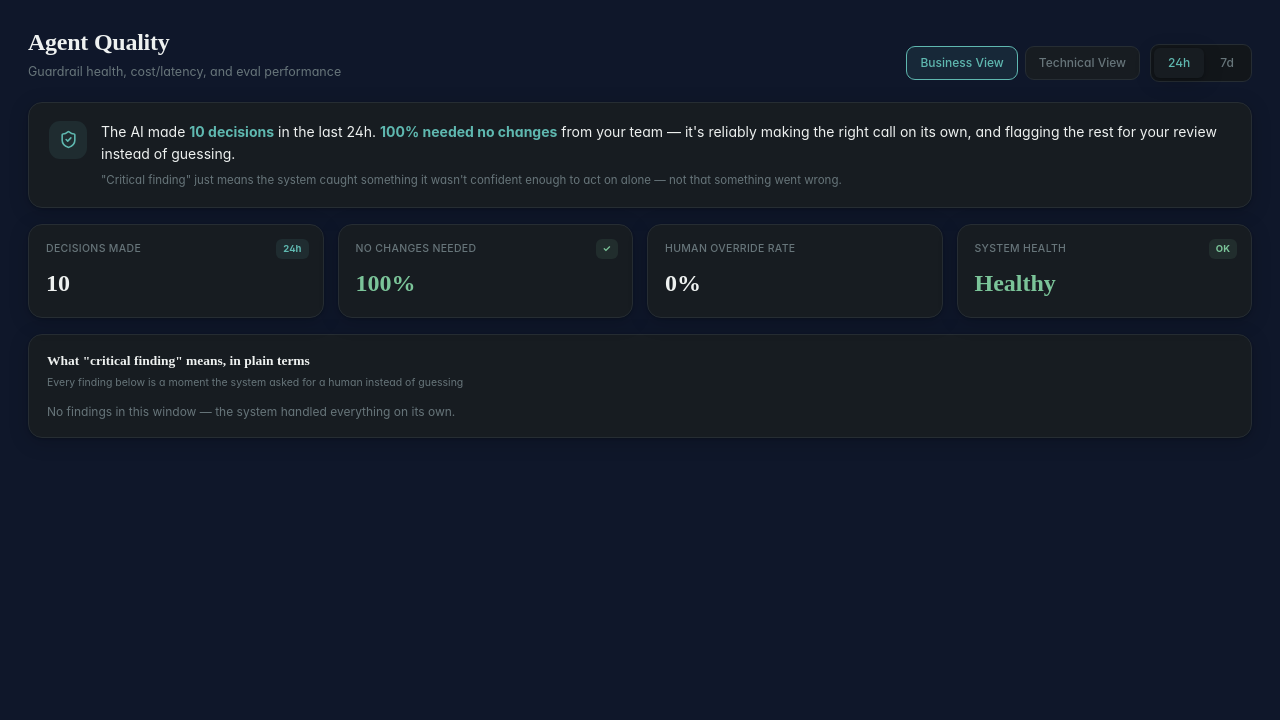
Test: AgentQuality › shows the healthy-zero empty state when runs exist but no findings
Click the button "Technical View".
click(1082, 63)  # box [1025, 46, 1140, 80]
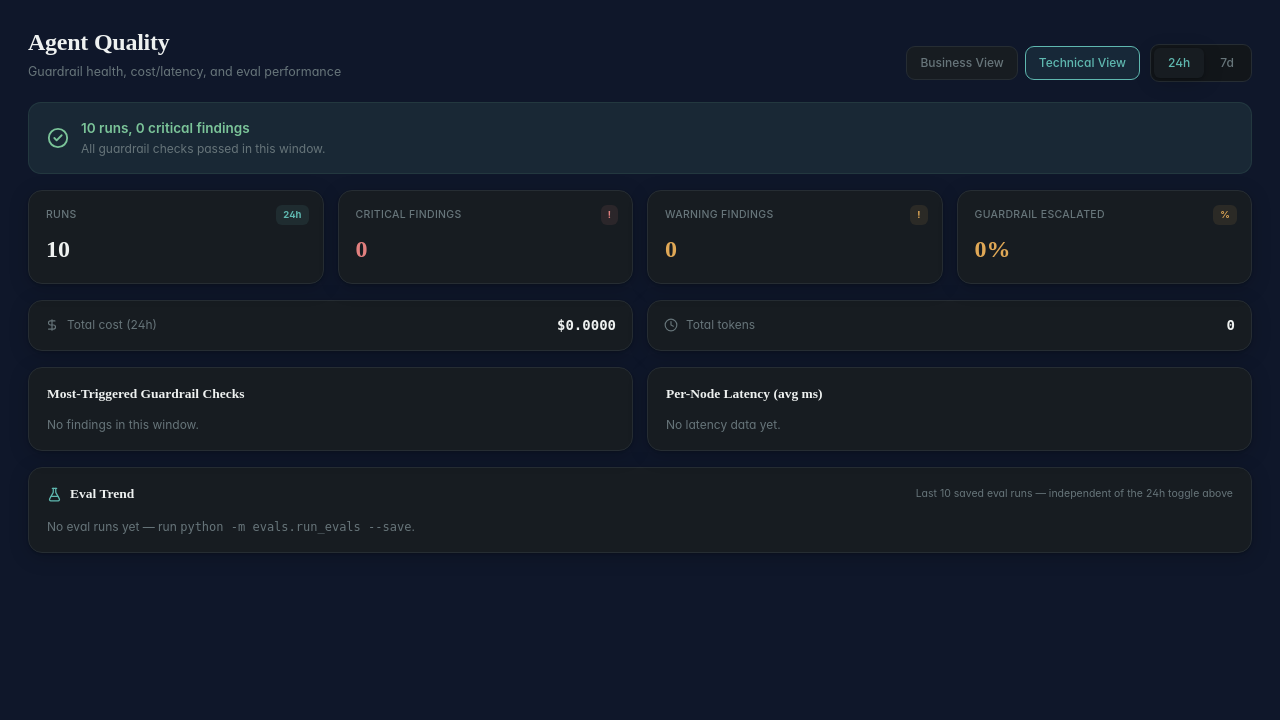
Check: the text "10 runs, 0 critical findings" is shown, box [81, 120, 250, 136]
